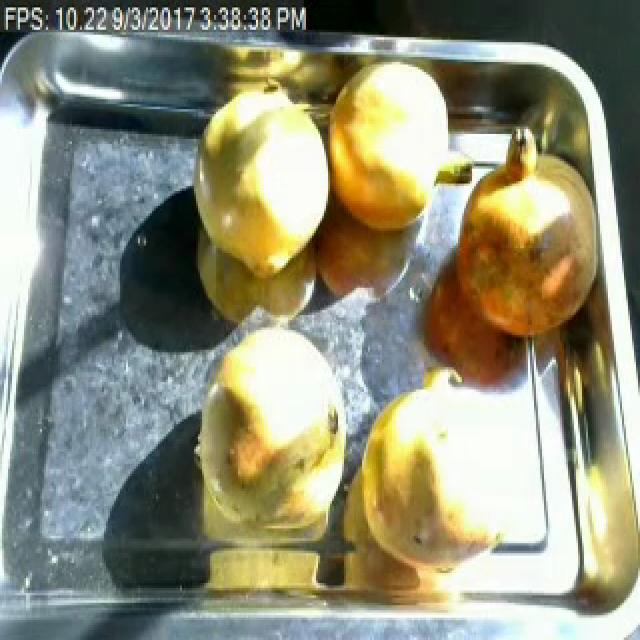fruit: (184, 320, 360, 543), (350, 360, 518, 593), (446, 139, 612, 355), (186, 72, 338, 285), (316, 44, 474, 246)
